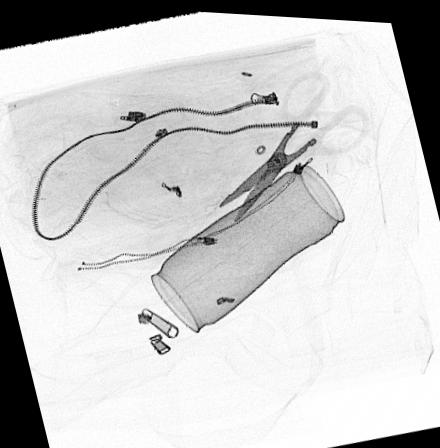Scissors: (216, 62, 372, 223)
